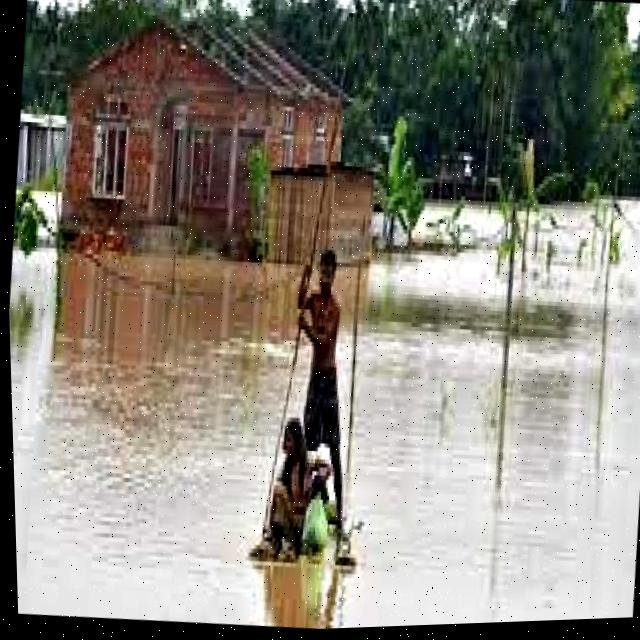civilian: (243, 402, 337, 566), (289, 245, 368, 440)
